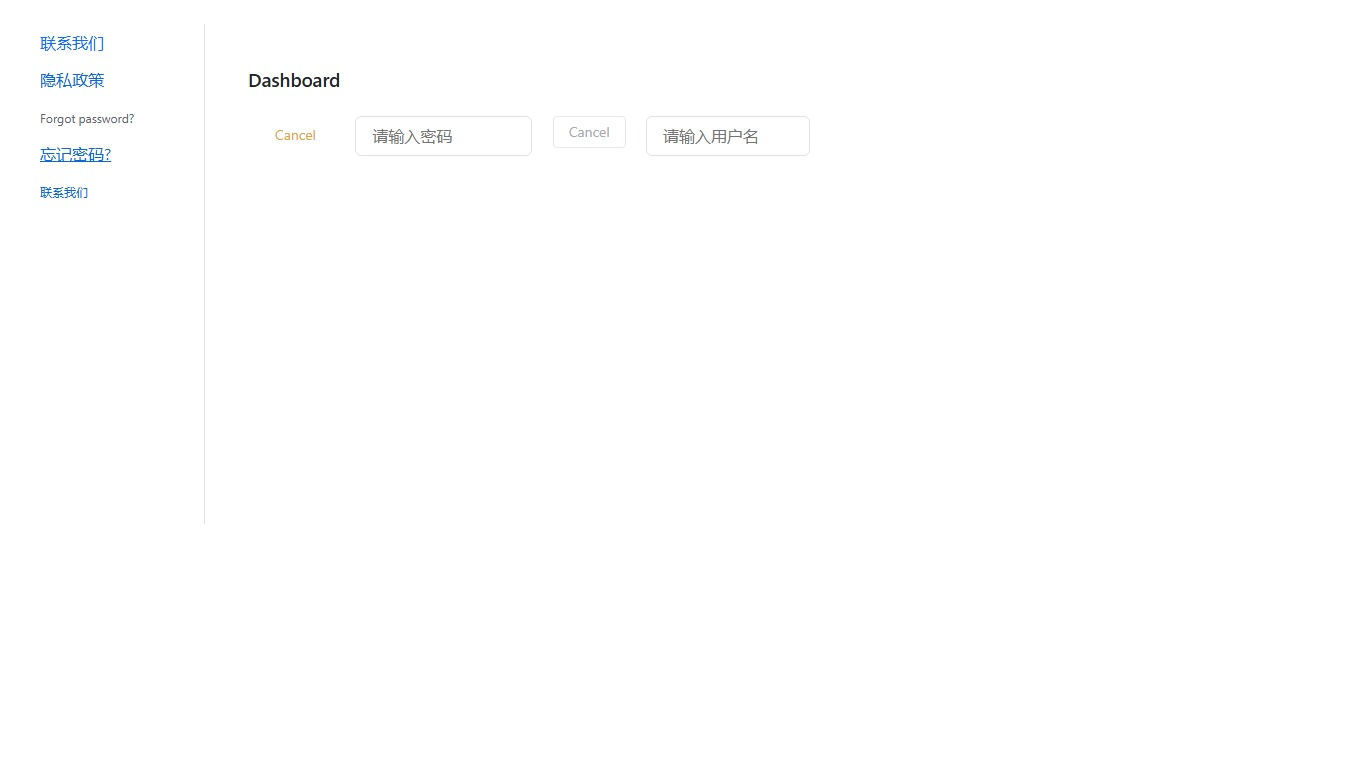button: (256, 116, 335, 154), (553, 116, 626, 148)
input: (355, 116, 532, 156), (646, 116, 810, 156)
link: (40, 110, 134, 126), (40, 143, 111, 164), (40, 32, 104, 53), (40, 69, 104, 90), (40, 184, 88, 200)
